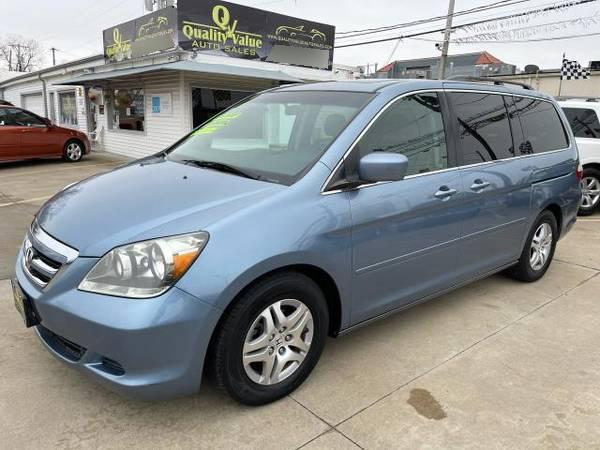Front_Bumper: (10, 256, 219, 399)
Front_Fender: (175, 161, 351, 334)
Front_Left_Door: (344, 167, 462, 330)
Front_Left_Window: (342, 92, 455, 190)
Front_Windshield: (163, 93, 373, 187)
Grille: (18, 220, 77, 291)
Hood: (30, 157, 277, 259)
Left_Headlight: (70, 232, 206, 299)
Rear_Bumper: (559, 194, 583, 238)
Rear_Fender: (509, 96, 583, 217)
Rear_Left_Door: (452, 154, 535, 286)
Rear_Left_Window: (444, 91, 527, 166)
Roof: (263, 79, 578, 171)
Wheel: (218, 275, 333, 407), (521, 215, 558, 278)
